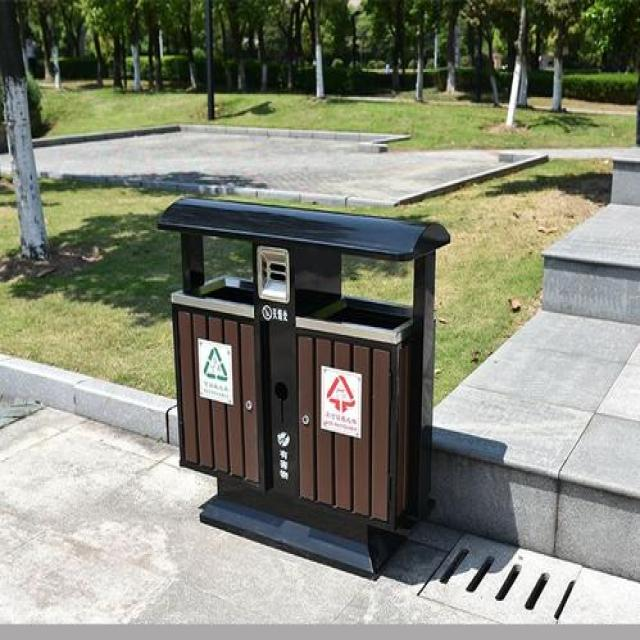garbage_bin: (154, 195, 449, 580)
